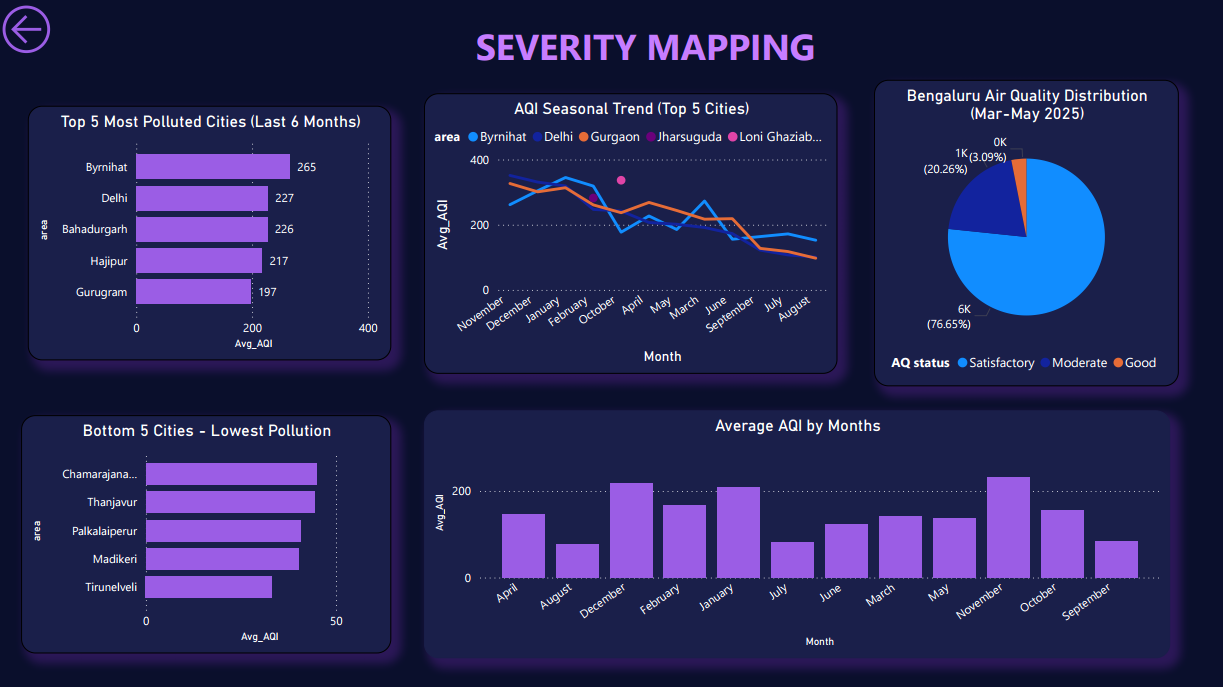

Layout of this report page (visuals, bound fields, positions):
{"tool":"powerbi","page":{"name":"SEVERITY MAPPING","canvas":[1280,720],"ordinal":1},"visuals":[{"type":"barChart","title":"Top 5 Most Polluted Cities (Last 6 Months)","fields":{"Category":["AQI_data.area"],"Y":["AQI_data.Avg_AQI"]},"box":[32.5,111.2,378.8,265],"z":0},{"type":"barChart","title":"Bottom 5 Cities - Lowest Pollution","fields":{"Category":["AQI_data.area"],"Y":["AQI_data.Avg_AQI"]},"box":[26.2,432.5,385,248.8],"z":1000},{"type":"lineChart","title":"AQI Seasonal Trend (Top 5 Cities)","fields":{"Category":["dim_date.Month_Name"],"Y":["AQI_data.Avg_AQI"],"Series":["AQI_data.area"]},"box":[445,97.5,430,292.5],"z":2000},{"type":"pieChart","title":"Bengaluru Air Quality Distribution (Mar-May 2025)","fields":{"Category":["AQI_data.air_quality_status"],"Y":["Sum(AQI_data.aqi_value)"]},"box":[912.5,83.8,317.5,318.8],"z":3000},{"type":"clusteredColumnChart","title":"Average AQI by Months","fields":{"Category":["dim_state.state","dim_date.Month_Name"],"Y":["AQI_data.Avg_AQI"]},"box":[445,427.5,776.2,258.8],"z":4000},{"type":"textbox","box":[476.2,17.5,398.8,66.2],"z":5000},{"type":"actionButton","box":[0,0,67.5,62.5],"z":6000}]}

Visuals, with their boxes in screenshot pixels (x1, y1, x2, y2), scaled from the page's 1280x720 canvas onto the 1223x687 screenshot:
"Top 5 Most Polluted Cities (Last 6 Months)" barChart: box(31, 106, 393, 359)
"Bottom 5 Cities - Lowest Pollution" barChart: box(25, 413, 393, 650)
"AQI Seasonal Trend (Top 5 Cities)" lineChart: box(425, 93, 836, 372)
"Bengaluru Air Quality Distribution (Mar-May 2025)" pieChart: box(872, 80, 1175, 384)
"Average AQI by Months" clusteredColumnChart: box(425, 408, 1167, 655)
textbox: box(455, 17, 836, 80)
actionButton: box(0, 0, 64, 60)
